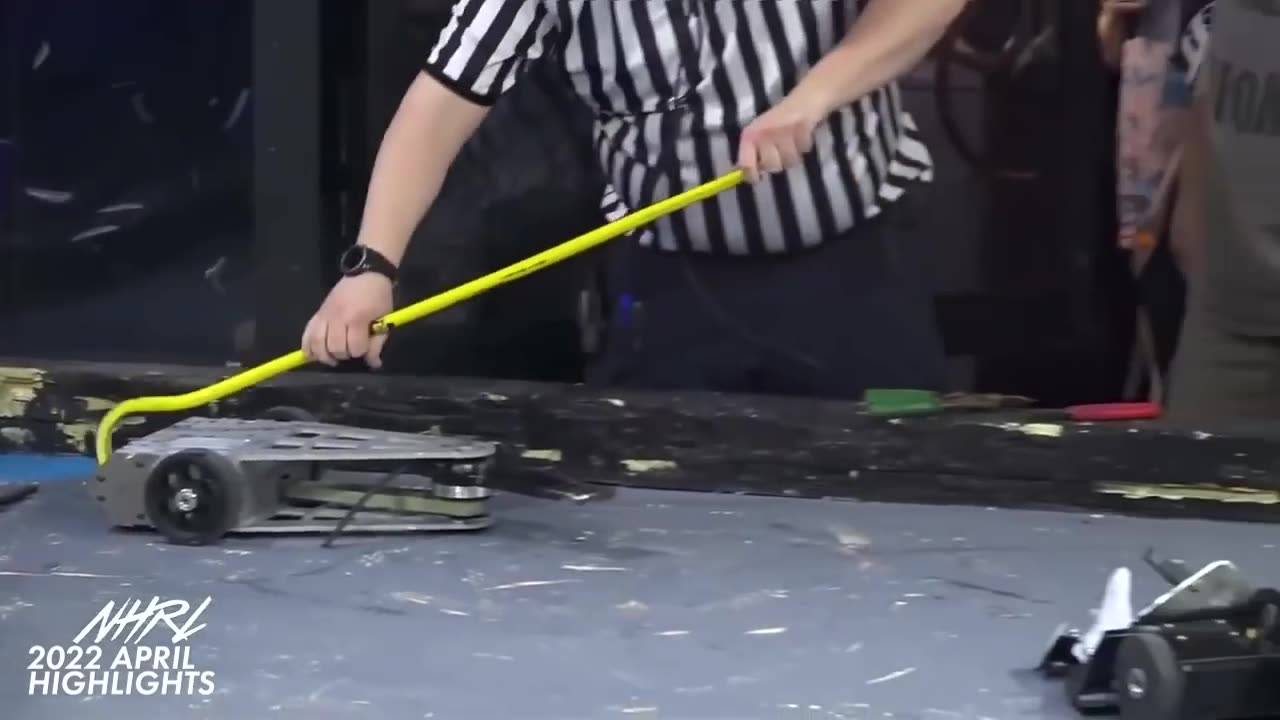combatbot: (102, 393, 500, 545), (1042, 547, 1280, 716)
